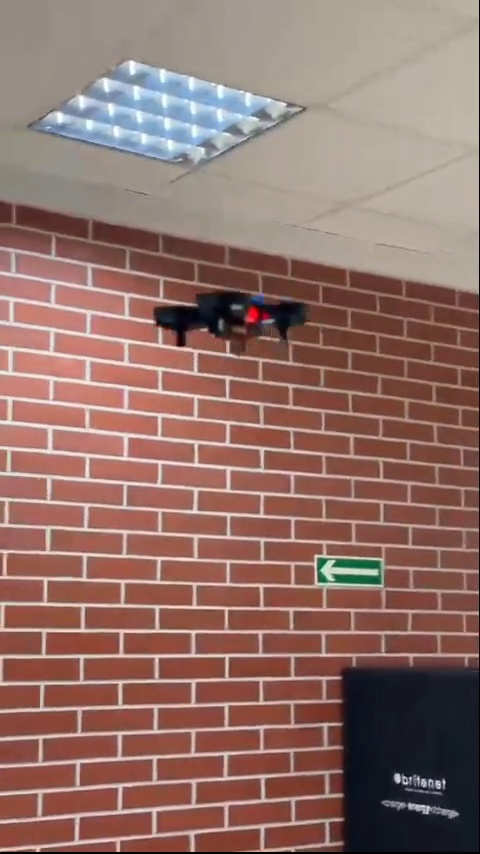drone: (152, 291, 310, 351)
